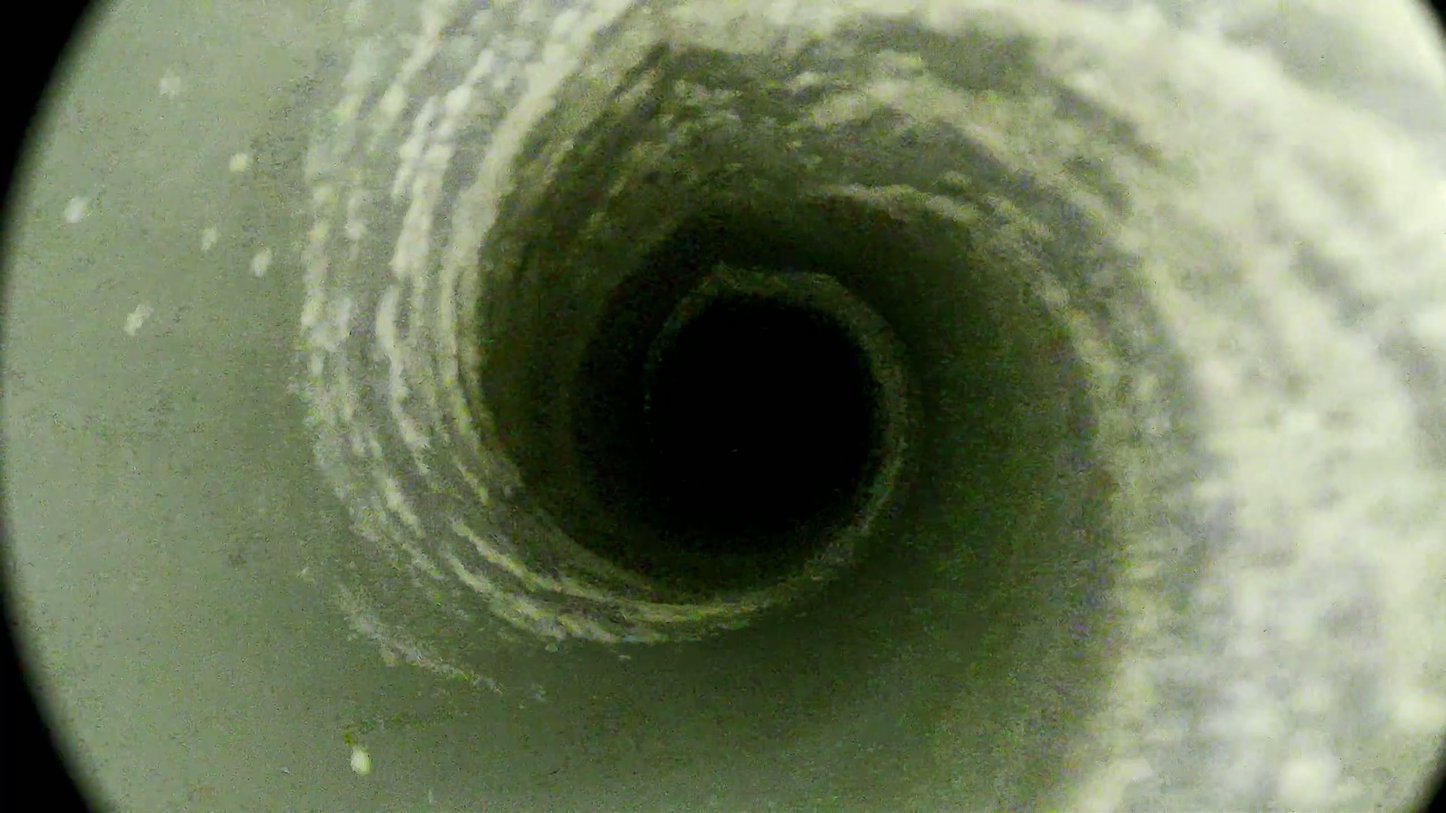hole: (656, 309, 864, 514)
